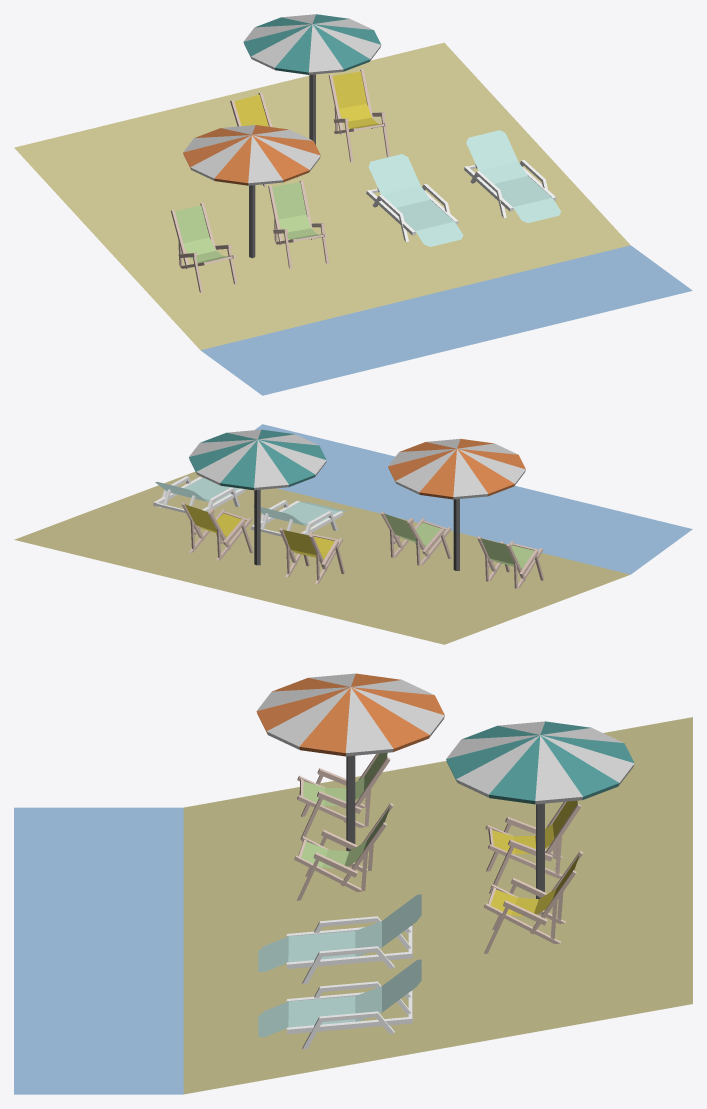
Rendered from beach_tile_1x1_006.fbx.
The picture shows the model from 3 angles, top to bottom: view 1: azimuth 30°, elevation 25°; view 2: azimuth 150°, elevation 25°; view 3: azimuth 270°, elevation 25°; orthographic projection. The views are drawn at different scales.
Visible parts, largest first — view 1: beach_tile_1x1_006; view 2: beach_tile_1x1_006; view 3: beach_tile_1x1_006.
Boxes of the visible parts, x1=… form: beach_tile_1x1_006: x1=14, y1=14, x2=692, y2=395; beach_tile_1x1_006: x1=14, y1=424, x2=692, y2=644; beach_tile_1x1_006: x1=14, y1=673, x2=692, y2=1094.
Size of the model in its own units: 800 by 304 by 800.
